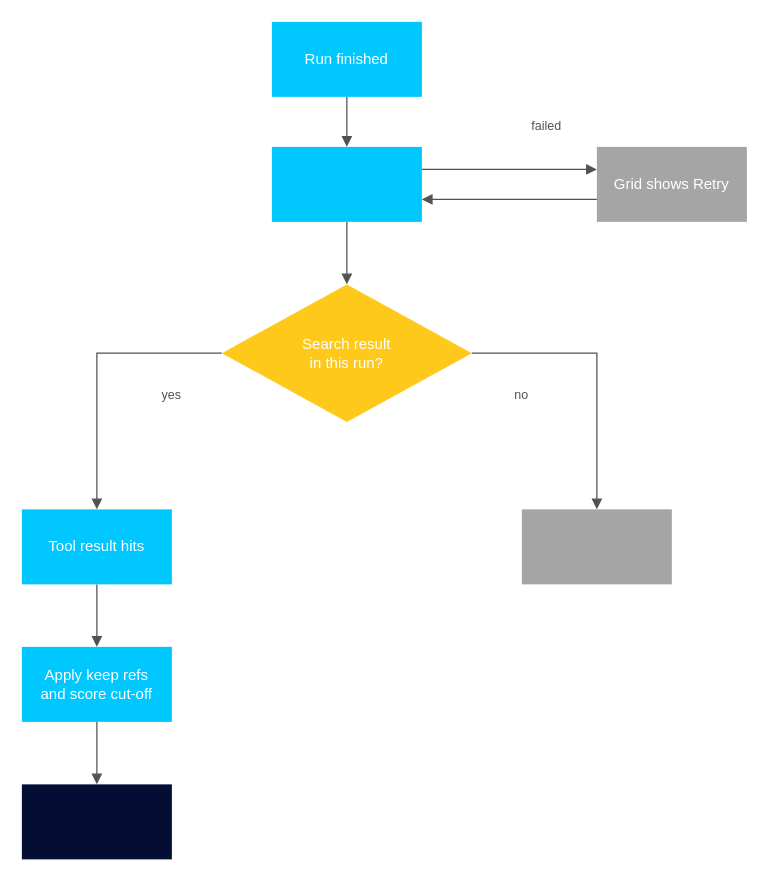
This 768x880 diagram has some shape labels left out. The centre of each missing label's shape, as x and y in pixels:
No hits shown: [596,546]
Read transcript: [346,183]
Review grid: [96,821]
